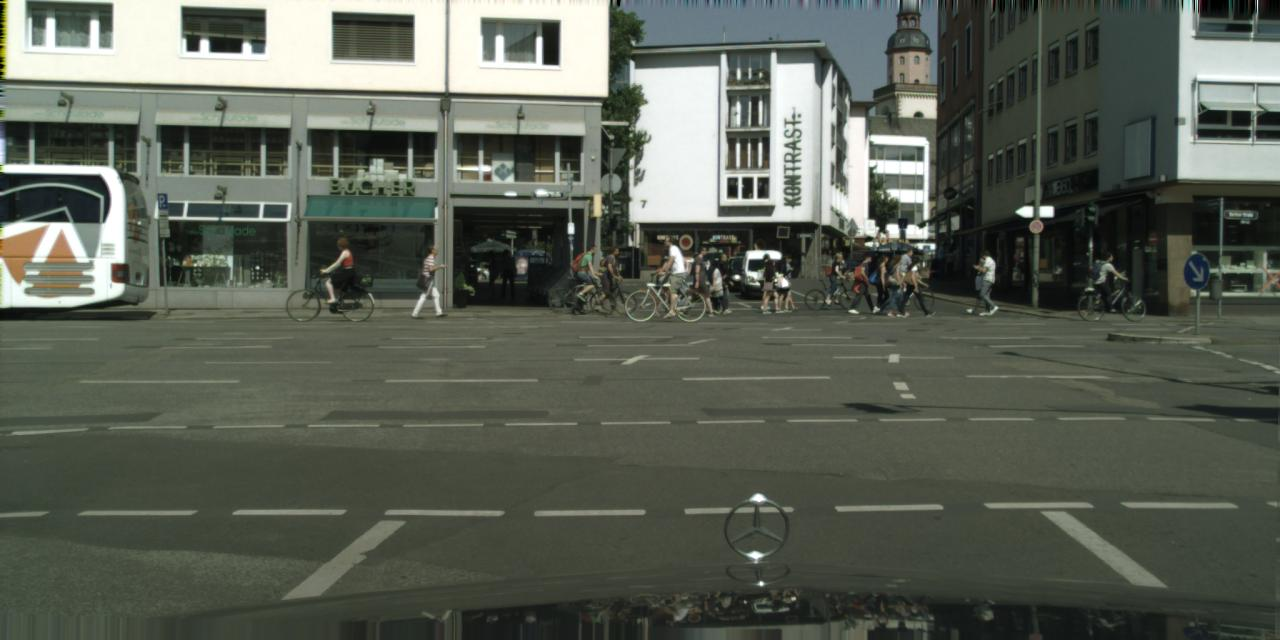ped: (753, 252, 802, 314), (654, 234, 688, 318), (324, 236, 354, 308), (417, 245, 446, 317), (686, 246, 714, 316), (885, 254, 910, 316), (598, 247, 622, 310), (869, 254, 893, 314), (575, 244, 599, 304), (854, 254, 878, 313), (1094, 252, 1118, 310), (708, 262, 734, 314), (826, 252, 846, 302), (898, 247, 914, 288), (654, 301, 664, 316), (659, 269, 670, 282), (683, 256, 687, 263), (666, 308, 669, 314), (683, 280, 685, 282)
